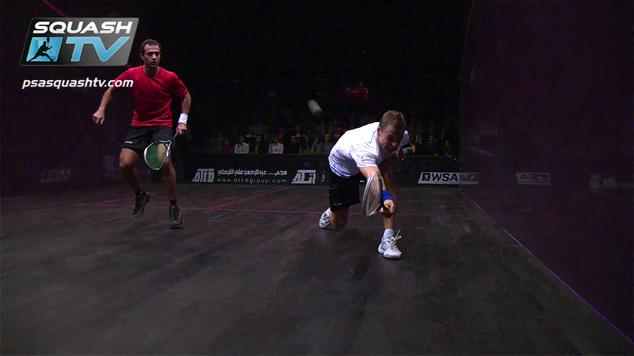walk: (108, 8, 194, 237), (324, 102, 409, 246)
